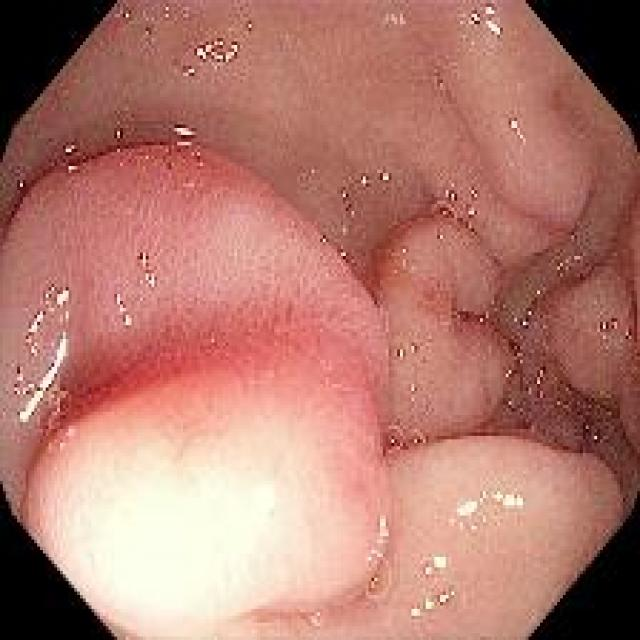Polyps: (0, 145, 390, 639)
